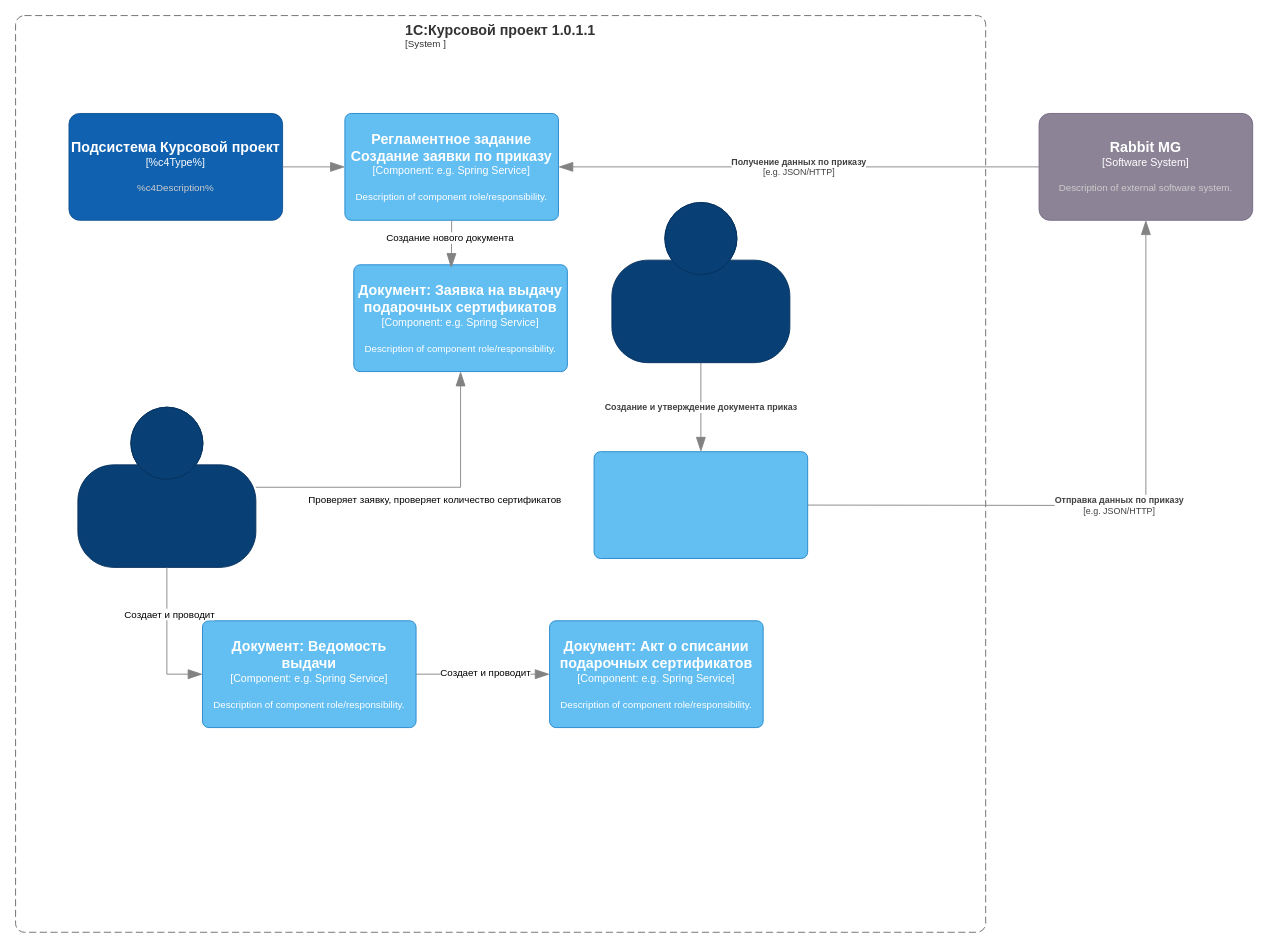
Some shapes in this 1268 by 948 pixel diagram are drawn without their labels. The centre of each missing label's shape, as x and y in pixels:
"Бухгалтер [Person] Description of person." belongs at [166,486].
"Документ: Приказ [%c4Type%: %c4Technology%] %c4Description%" belongs at [700,504].
"Руководитель компании [Person] Description of person." belongs at [700,282].
